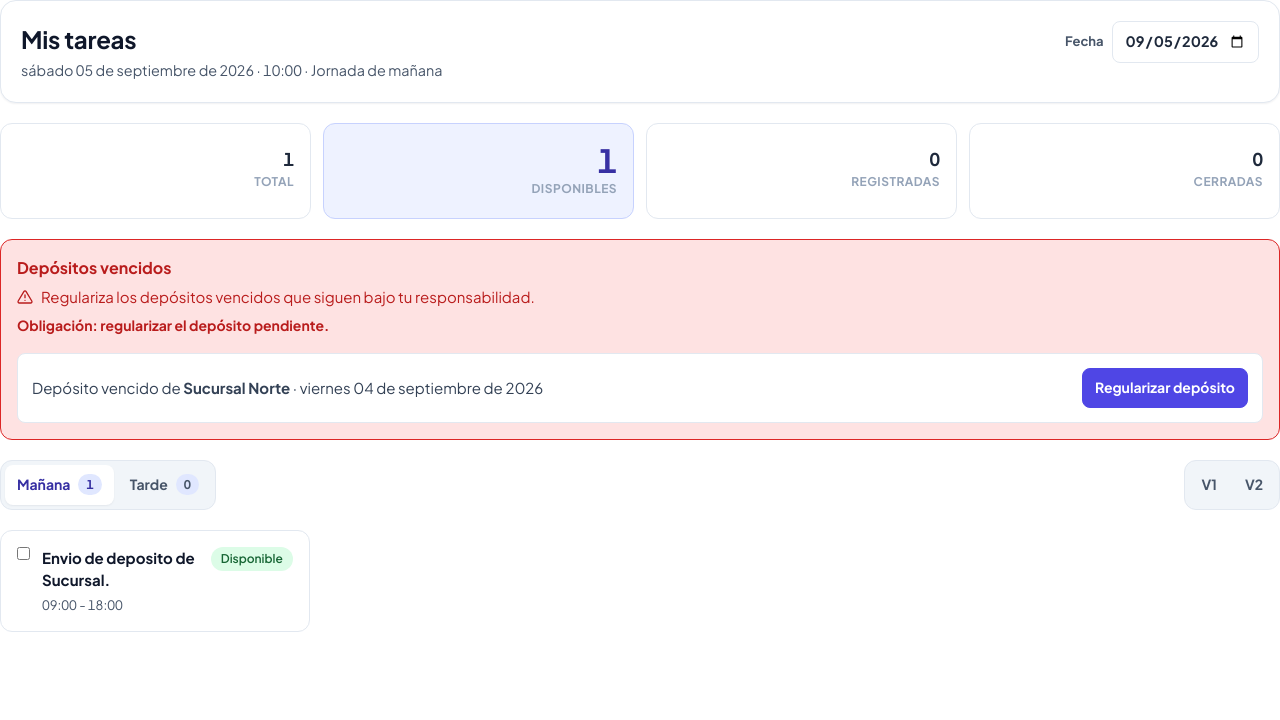
MisTareasPage deposit demonstrations › shows a retryable bridge error
The image size is (1280, 720).
Click the button with aria-label "Regularizar depósito vencido de Sucursal Norte".
click(1165, 388)  # box [1082,368,1248,408]
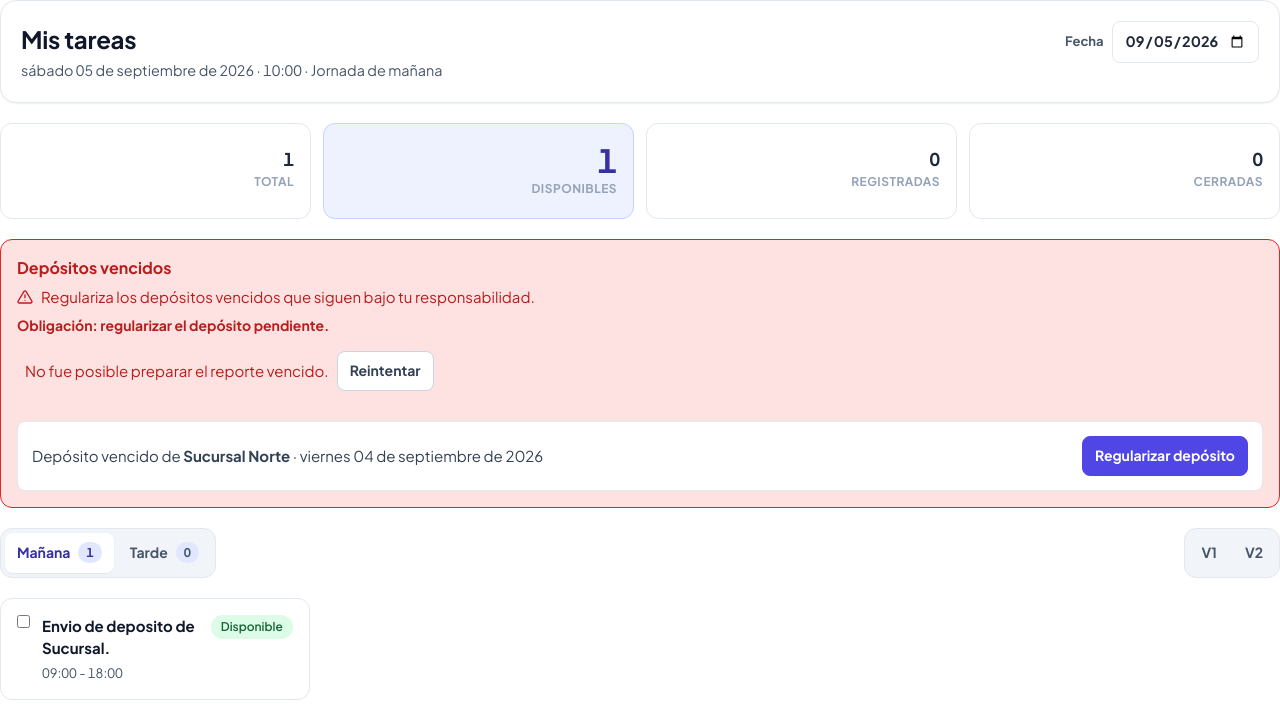
Expected: the message shows "No fue posible preparar el reporte vencido.", [25,360,329,380]
Click the button "Reintentar".
click(385, 371)  # box [337,351,434,391]
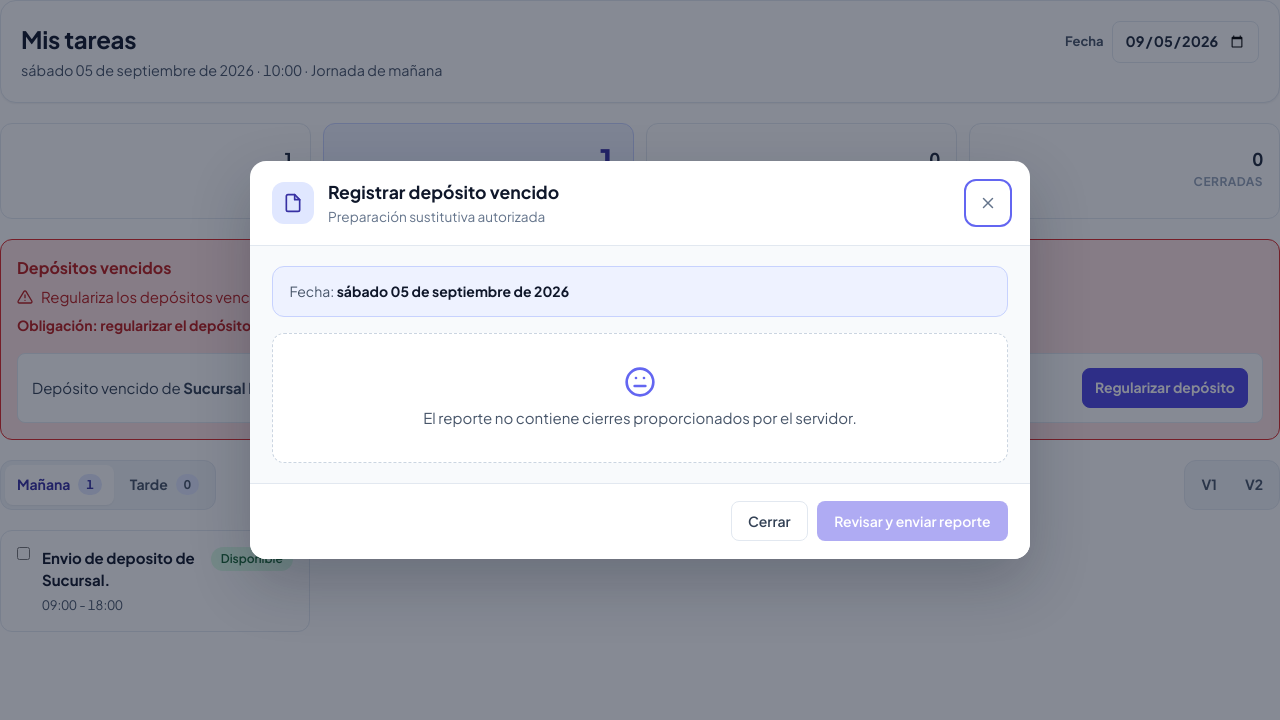
Expected: the dialog "Registrar depósito vencido" is shown, [250,161,1030,559]
